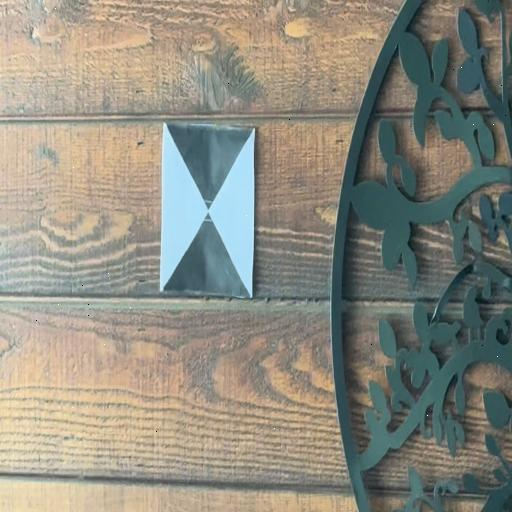target: (163, 123, 253, 297)
